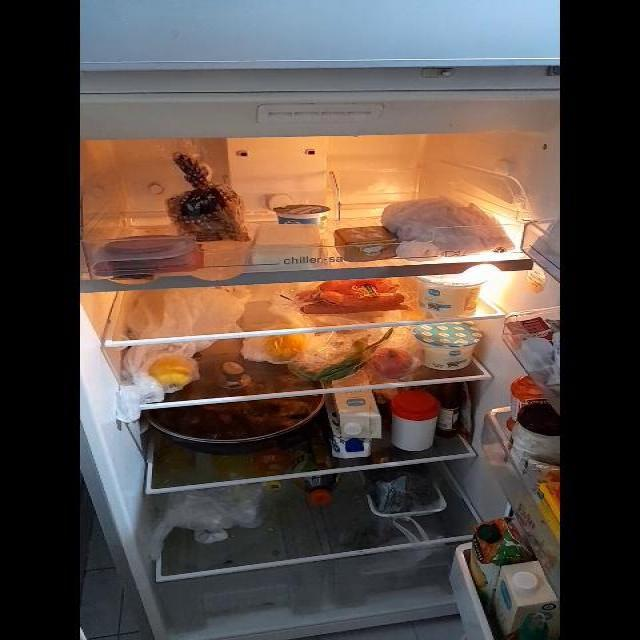bread: (173, 190, 246, 238)
broccoli: (367, 476, 441, 512)
butter: (335, 225, 396, 257)
carrots: (296, 280, 407, 310)
cheese: (253, 224, 323, 258)
green chilies: (295, 353, 373, 381)
lemon: (151, 354, 200, 391), (262, 335, 310, 360)
milk: (502, 564, 550, 630), (332, 394, 380, 456)
tomatoes: (371, 346, 416, 375)
yoghurt: (415, 325, 481, 368), (416, 275, 484, 314), (275, 205, 328, 225)
